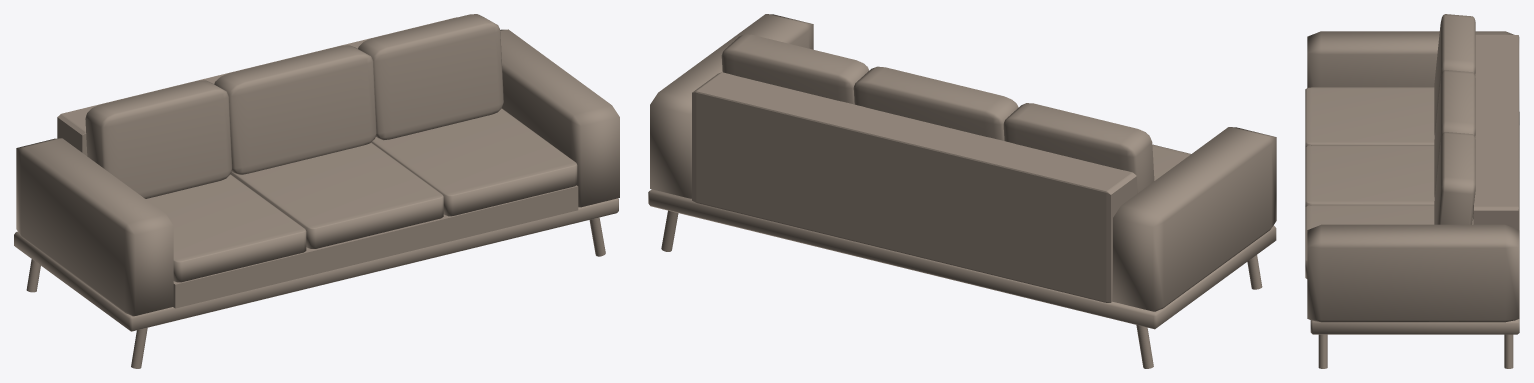
The model's file is sofa.glb.
3 views of the same model, side by side, from view 1: azimuth 30°, elevation 25°; view 2: azimuth 150°, elevation 25°; view 3: azimuth 270°, elevation 25° (orthographic). The views are drawn at different scales.
Visible parts, largest first — view 1: Cube; view 2: Cube; view 3: Cube.
Boxes of the visible parts, left/top/right/bottom form: Cube: left=14, top=14, right=619, bottom=368; Cube: left=648, top=14, right=1276, bottom=368; Cube: left=1305, top=14, right=1519, bottom=368.
Size of the model in its own units: 2 by 0.7511 by 0.8511.
